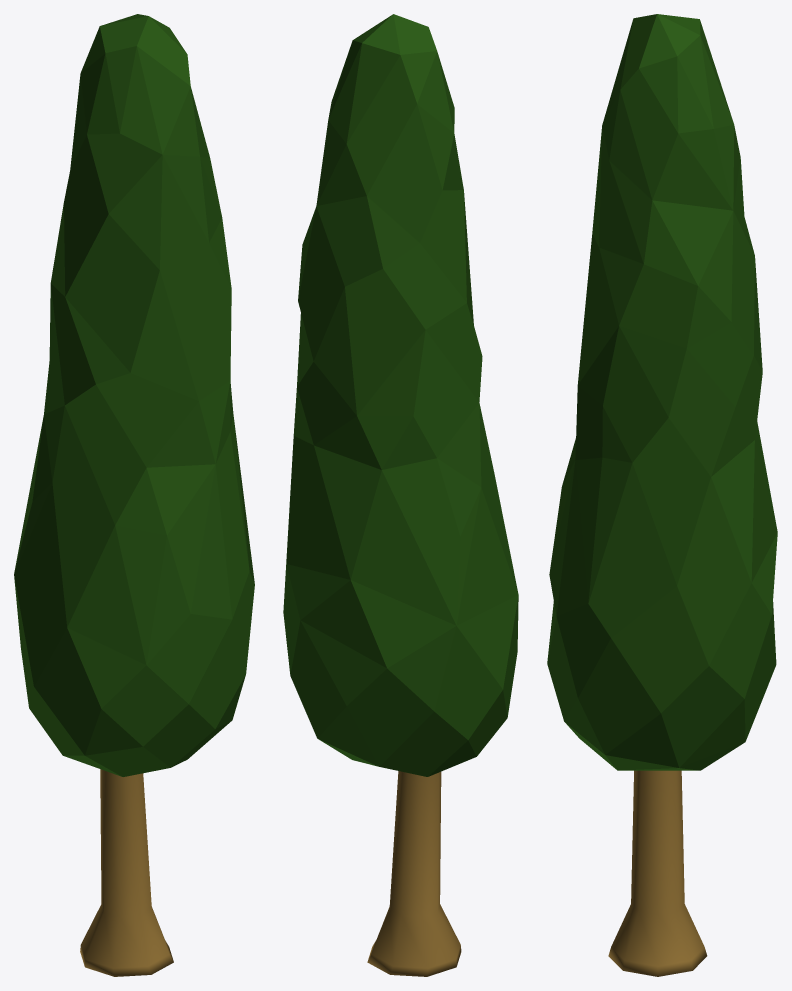
File: Tree3.gltf
3 renders of one model, left to right at view 1: azimuth 30°, elevation 25°; view 2: azimuth 150°, elevation 25°; view 3: azimuth 270°, elevation 25°, orthographic.
Visible parts, largest first — view 1: crown 3.001, tree 3; view 2: crown 3.001, tree 3; view 3: crown 3.001, tree 3.
Boxes of the visible parts, x1,y1,x2,y2 form: crown 3.001: [14, 14, 254, 776]; tree 3: [80, 769, 173, 976]; crown 3.001: [283, 14, 518, 776]; tree 3: [367, 771, 461, 976]; crown 3.001: [547, 14, 777, 770]; tree 3: [608, 770, 707, 976].
Size of the model in its own units: 1.49 by 6.67 by 1.46.
